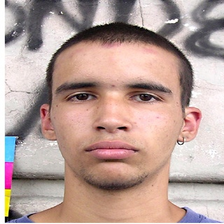no_mask: (52, 57, 182, 183)
